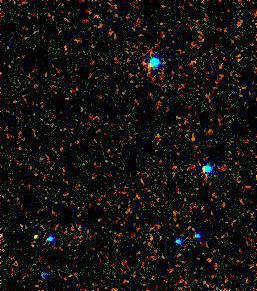star: (20, 223, 50, 253)
